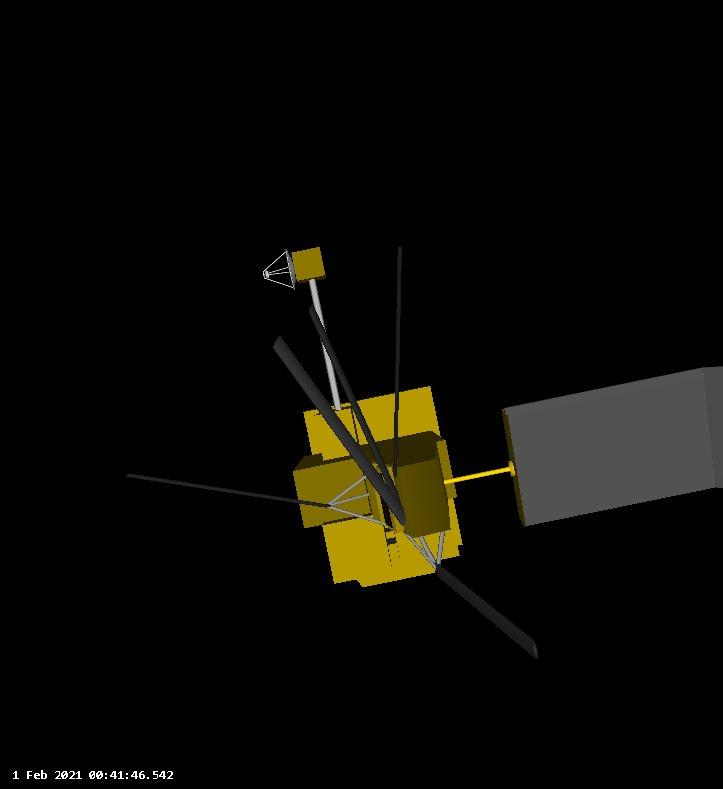antenna: (258, 247, 298, 296)
body: (291, 381, 469, 592)
solar: (499, 358, 722, 530)
